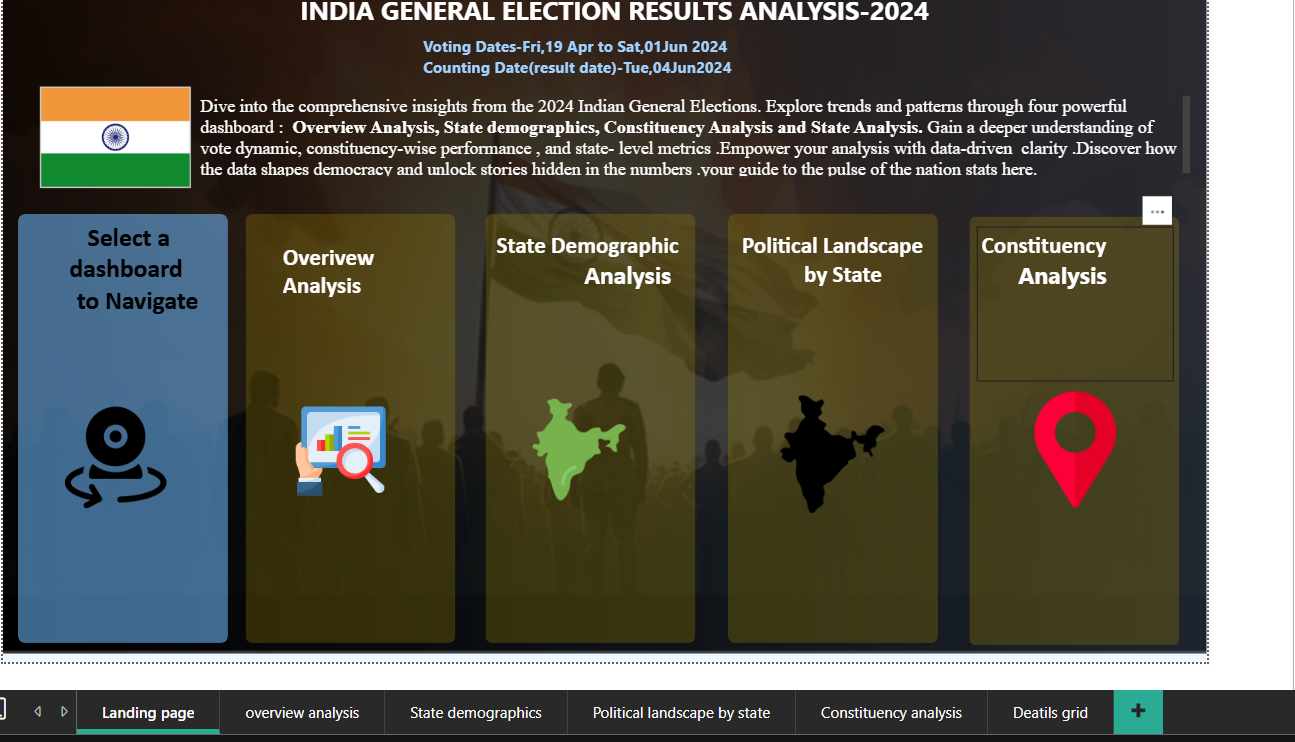

The page's visual inventory and layout, read from the dashboard file:
{"tool":"powerbi","page":{"name":"Landing page","canvas":[1250,720],"ordinal":0},"visuals":[{"type":"textbox","box":[59,64.3,1164.5,30.8],"z":0},{"type":"image","box":[0,0,1250,719.4],"z":1000},{"type":"textbox","box":[304.2,19.4,755.6,75],"z":2000},{"type":"textbox","box":[427.8,63.9,365.3,63.9],"z":3000},{"type":"textbox","box":[200,127.8,1038.9,93.1],"z":4000},{"type":"image","box":[0,94.4,233.3,159.7],"z":5000},{"type":"shape","box":[15.3,254.2,218.1,445.8],"z":6000},{"type":"shape","box":[251.4,254.2,218.1,445.8],"z":7000},{"type":"shape","box":[1004.2,256.9,218.1,445.8],"z":8000},{"type":"shape","box":[753.2,254.2,218.1,445.8],"z":9000},{"type":"shape","box":[501.4,254.2,218.1,445.8],"z":10000},{"type":"textbox","box":[29.2,256.9,204.2,161.1],"z":11000},{"type":"textbox","box":[286.1,279.2,183.3,80.6],"z":12000},{"type":"textbox","box":[508.3,268.1,204.2,161.1],"z":13000},{"type":"textbox","box":[759.7,268.1,204.2,161.1],"z":14000},{"type":"textbox","box":[1011.1,268.1,204.2,161.1],"z":15000},{"type":"image","box":[286.1,454.2,130.6,93.1],"z":16000},{"type":"image","box":[43.1,454.2,148.6,105.6],"z":17000},{"type":"image","box":[513.9,438.9,168.1,120.8],"z":18000},{"type":"image","box":[768.1,438.9,187.5,130.6],"z":19000},{"type":"image","box":[1027.8,438.9,173.6,120.8],"z":20000}]}

Visuals, with their boxes on the page's 1250x720 design canvas (x1, y1, x2, y2). These are canvas units, not pixel positions in the 1295x742 screenshot, which may show the page scaled, cropped or inside an application window:
textbox: box=[59, 64, 1224, 95]
image: box=[0, 0, 1250, 719]
textbox: box=[304, 19, 1060, 94]
textbox: box=[428, 64, 793, 128]
textbox: box=[200, 128, 1239, 221]
image: box=[0, 94, 233, 254]
shape: box=[15, 254, 233, 700]
shape: box=[251, 254, 470, 700]
shape: box=[1004, 257, 1222, 703]
shape: box=[753, 254, 971, 700]
shape: box=[501, 254, 720, 700]
textbox: box=[29, 257, 233, 418]
textbox: box=[286, 279, 469, 360]
textbox: box=[508, 268, 712, 429]
textbox: box=[760, 268, 964, 429]
textbox: box=[1011, 268, 1215, 429]
image: box=[286, 454, 417, 547]
image: box=[43, 454, 192, 560]
image: box=[514, 439, 682, 560]
image: box=[768, 439, 956, 570]
image: box=[1028, 439, 1201, 560]
